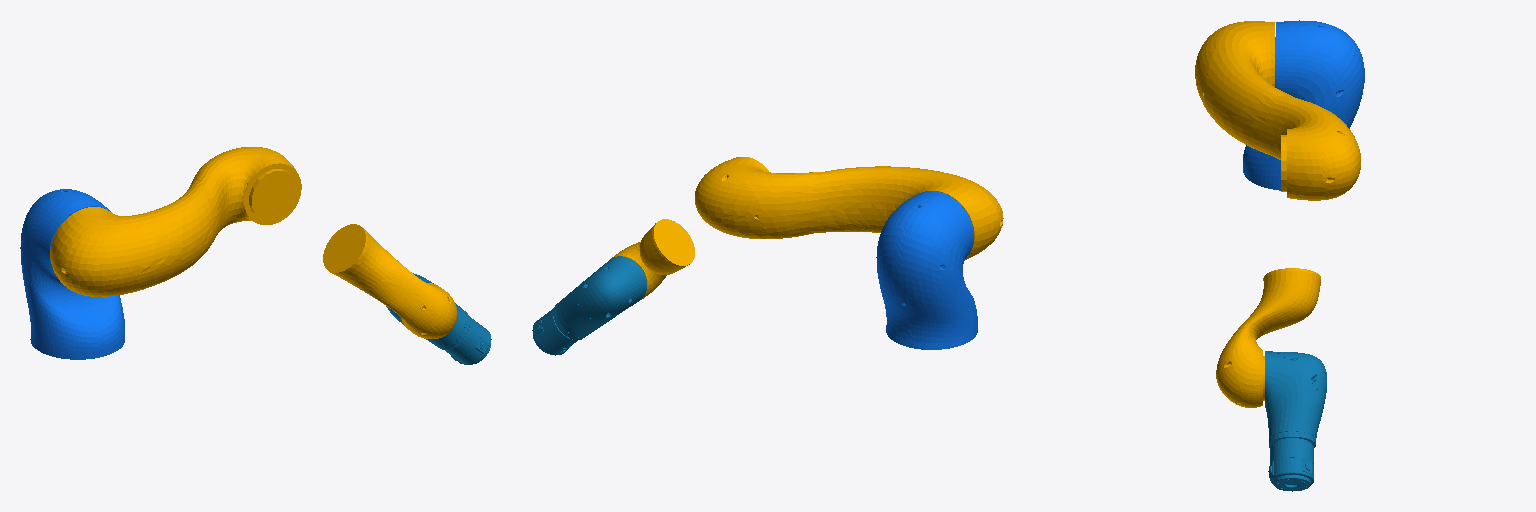
robot.urdf — hsr_co602a:
<robot
  name="hsr_co602a">

<!--
  <link name="world"/>

  <joint name="fixed" type="fixed">
    <parent link="world"/>
    <child link="robot_base_link"/>
	<origin
      xyz="0 0 1"
      rpy="0 0 0" />
  </joint> 
-->
  <link
    name="robot_base_link">
    <inertial>
      <origin
        xyz="-0.0024614 3.992E-07 0.076752"
        rpy="0 0 0" />
      <mass
        value="4.8818" />
      <inertia
        ixx="0"
        ixy="0"
        ixz="0"
        iyy="0"
        iyz="0"
        izz="0" />
    </inertial>
    <visual>
      <origin
        xyz="0 0 0"
        rpy="0 0 0" />
      <geometry>
        <mesh
          filename="package://hsr_description/meshes/co602a/base_link.STL" />
      </geometry>
      <material
        name="">
        <color
          rgba="0.1137 0.5098 0.97 1" />
      </material>
    </visual>
    <collision>
      <origin
        xyz="0 0 0"
        rpy="0 0 0" />
      <geometry>
        <mesh
          filename="package://hsr_description/meshes/co602a/base_link.STL" />
      </geometry>
    </collision>
  </link>
  <link
    name="link1">
    <inertial>
      <origin
        xyz="-3.4523E-06 -0.02843 0.064536"
        rpy="0 0 0" />
      <mass
        value="4.9839" />
      <inertia
        ixx="0"
        ixy="0"
        ixz="0"
        iyy="0"
        iyz="0"
        izz="0" />
    </inertial>
    <visual>
      <origin
        xyz="0 0 0"
        rpy="0 0 0" />
      <geometry>
        <mesh
          filename="package://hsr_description/meshes/co602a/link1.STL" />
      </geometry>
      <material
        name="">
        <color
          rgba="0.1137 0.5098 0.97 1" />
      </material>
    </visual>
    <collision>
      <origin
        xyz="0 0 0"
        rpy="0 0 0" />
      <geometry>
        <mesh
          filename="package://hsr_description/meshes/co602a/link1.STL" />
      </geometry>
    </collision>
  </link>
  <joint
    name="joint_1"
    type="revolute">
    <origin
      xyz="0 0 0.352"
      rpy="3.1416 0 -3.4694E-18" />
    <parent
      link="robot_base_link" />
    <child
      link="link1" />
    <axis
      xyz="0 0 -1" />
    <limit
      lower="-3.490658503988"
      upper="3.490658503988"
      effort="28"
      velocity="3.2" />
    <safety_controller
      soft_upper_limit="3.481931857728"
      soft_lower_limit="-3.481931857728"
      k_position="100"
      k_velocity="10" />
  </joint>
  <link
    name="link2">
    <inertial>
      <origin
        xyz="4.7574E-06 -0.18488 -0.037843"
        rpy="0 0 0" />
      <mass
        value="6.6939" />
      <inertia
        ixx="0"
        ixy="0"
        ixz="0"
        iyy="0"
        iyz="0"
        izz="0" />
    </inertial>
    <visual>
      <origin
        xyz="0 0 0"
        rpy="0 0 0" />
      <geometry>
        <mesh
          filename="package://hsr_description/meshes/co602a/link2.STL" />
      </geometry>
      <material
        name="">
        <color
          rgba="0.97 0.7 0 1" />
      </material>
    </visual>
    <collision>
      <origin
        xyz="0 0 0"
        rpy="0 0 0" />
      <geometry>
        <mesh
          filename="package://hsr_description/meshes/co602a/link2.STL" />
      </geometry>
    </collision>
  </link>
  <joint
    name="joint_2"
    type="revolute">
    <origin
      xyz="0 0 0"
      rpy="1.5708 -1.5708 0" />
    <parent
      link="link1" />
    <child
      link="link2" />
    <axis
      xyz="0 0 1" />
    <limit
      lower="-2.268928027592"
      upper="1"
      effort="28"
      velocity="3.2" />
    <safety_controller
      soft_upper_limit="1"
      soft_lower_limit="-2.260201381332"
      k_position="100"
      k_velocity="10" />
  </joint>
  <link
    name="link3">
    <inertial>
      <origin
        xyz="-4.098E-05 -0.085254 -0.035956"
        rpy="0 0 0" />
      <mass
        value="2.3223" />
      <inertia
        ixx="0"
        ixy="0"
        ixz="0"
        iyy="0"
        iyz="0"
        izz="0" />
    </inertial>
    <visual>
      <origin
        xyz="0 0 0"
        rpy="0 0 0" />
      <geometry>
        <mesh
          filename="package://hsr_description/meshes/co602a/link3.STL" />
      </geometry>
      <material
        name="">
        <color
          rgba="0.1137 0.5098 0.97 1" />
      </material>
    </visual>
    <collision>
      <origin
        xyz="0 0 0"
        rpy="0 0 0" />
      <geometry>
        <mesh
          filename="package://hsr_description/meshes/co602a/link3.STL" />
      </geometry>
    </collision>
  </link>
  <joint
    name="joint_3"
    type="revolute">
    <origin
      xyz="0 -0.4 0"
      rpy="6.3741E-17 1.5386E-16 -1.5708" />
    <parent
      link="link2" />
    <child
      link="link3" />
    <axis
      xyz="0 0 1" />
    <limit
      lower="1"
      upper="3.665191429188"
      effort="28"
      velocity="3.2" />
    <safety_controller
      soft_upper_limit="3.656464782928"
      soft_lower_limit="0.008726646259"
      k_position="100"
      k_velocity="10" />
  </joint>
  <link
    name="link4">
    <inertial>
      <origin
        xyz="0.049627 2.6934E-06 0.3246"
        rpy="0 0 0" />
      <mass
        value="1.3111" />
      <inertia
        ixx="0"
        ixy="0"
        ixz="0"
        iyy="0"
        iyz="0"
        izz="0" />
    </inertial>
    <visual>
      <origin
        xyz="0 0 0"
        rpy="0 0 0" />
      <geometry>
        <mesh
          filename="package://hsr_description/meshes/co602a/link4.STL" />
      </geometry>
      <material
        name="">
        <color
          rgba="0.97 0.7 0 1" />
      </material>
    </visual>
    <collision>
      <origin
        xyz="0 0 0"
        rpy="0 0 0" />
      <geometry>
        <mesh
          filename="package://hsr_description/meshes/co602a/link4.STL" />
      </geometry>
    </collision>
  </link>
  <joint
    name="joint_4"
    type="revolute">
    <origin
      xyz="0 0 0"
      rpy="1.5708 1.5708 0" />
    <parent
      link="link3" />
    <child
      link="link4" />
    <axis
      xyz="0 0 1" />
    <limit
      lower="-3.0"
      upper="3.0"
      effort="28"
      velocity="3.2" />
    <safety_controller
      soft_upper_limit="3.0"
      soft_lower_limit="-3.0"
      k_position="100"
      k_velocity="10" />
  </joint>
  <link
    name="link5">
    <inertial>
      <origin
        xyz="1.2952E-06 -0.043824 0.0021728"
        rpy="0 0 0" />
      <mass
        value="1.1683" />
      <inertia
        ixx="0"
        ixy="0"
        ixz="0"
        iyy="0"
        iyz="0"
        izz="0" />
    </inertial>
    <visual>
      <origin
        xyz="0 0 0"
        rpy="0 0 0" />
      <geometry>
        <mesh
          filename="package://hsr_description/meshes/co602a/link5.STL" />
      </geometry>
      <material
        name="">
        <color
          rgba="0.113 0.5098 0.7 1" />
      </material>
    </visual>
    <collision>
      <origin
        xyz="0 0 0"
        rpy="0 0 0" />
      <geometry>
        <mesh
          filename="package://hsr_description/meshes/co602a/link5.STL" />
      </geometry>
    </collision>
  </link>
  <joint
    name="joint_5"
    type="revolute">
    <origin
      xyz="0 0 0.39901"
      rpy="-1.5708 1.8044E-17 1.5708" />
    <parent
      link="link4" />
    <child
      link="link5" />
    <axis
      xyz="0 0 1" />
    <limit
      lower="-2.268928027592"
      upper="2.268928027592"
      effort="28"
      velocity="3.2" />
    <safety_controller
      soft_upper_limit="2.260201381332"
      soft_lower_limit="-2.260201381332"
      k_position="100"
      k_velocity="10" />
  </joint>
  <link
    name="link6">
    <inertial>
      <origin
        xyz="-3.5784E-05 3.8806E-05 -0.025197"
        rpy="0 0 0" />
      <mass
        value="0.20458" />
      <inertia
        ixx="0"
        ixy="0"
        ixz="0"
        iyy="0"
        iyz="0"
        izz="0" />
    </inertial>
    <visual>
      <origin
        xyz="0 0 0"
        rpy="0 0 0" />
      <geometry>
        <mesh
          filename="package://hsr_description/meshes/co602a/link6.STL" />
      </geometry>
      <material
        name="">
        <color
          rgba="0.113 0.5098 0.7 1" />
      </material>
    </visual>
    <collision>
      <origin
        xyz="0 0 0"
        rpy="0 0 0" />
      <geometry>
        <mesh
          filename="package://hsr_description/meshes/co602a/link6.STL" />
      </geometry>
    </collision>
  </link>
  <joint
    name="joint_6"
    type="revolute">
    <origin
      xyz="0 -0.19849 0"
      rpy="-1.5708 1.0064E-16 -3.1416" />
    <parent
      link="link5" />
    <child
      link="link6" />
    <axis
      xyz="0 0 1" />
    <limit
      lower="-5.1"
      upper="5.1"
      effort="28"
      velocity="3.2" />
    <safety_controller
      soft_upper_limit="5.1"
      soft_lower_limit="-5.1"
      k_position="100"
      k_velocity="10" />
  </joint>

<gazebo>
    <plugin name="gazebo_ros_control" filename="libgazebo_ros_control.so">
      <robotNamespace>/</robotNamespace>
      <robotSimType>gazebo_ros_control/DefaultRobotHWSim</robotSimType>
    </plugin>
  </gazebo>

  <transmission name="tran1">
    <type>transmission_interface/SimpleTransmission</type>
    <joint name="joint_1">
      <hardwareInterface>PositionJointInterface</hardwareInterface>
    </joint>
    <actuator name="motor1">
      <hardwareInterface>PositionJointInterface</hardwareInterface>
      <mechanicalReduction>1</mechanicalReduction>
    </actuator>
  </transmission>

  <transmission name="tran2">
    <type>transmission_interface/SimpleTransmission</type>
    <joint name="joint_2">
      <hardwareInterface>PositionJointInterface</hardwareInterface>
    </joint>
    <actuator name="motor2">
      <hardwareInterface>PositionJointInterface</hardwareInterface>
      <mechanicalReduction>1</mechanicalReduction>
    </actuator>
  </transmission>

  <transmission name="tran3">
    <type>transmission_interface/SimpleTransmission</type>
    <joint name="joint_3">
      <hardwareInterface>PositionJointInterface</hardwareInterface>
    </joint>
    <actuator name="motor3">
      <hardwareInterface>PositionJointInterface</hardwareInterface>
      <mechanicalReduction>1</mechanicalReduction>
    </actuator>
  </transmission>

  <transmission name="tran4">
    <type>transmission_interface/SimpleTransmission</type>
    <joint name="joint_4">
      <hardwareInterface>PositionJointInterface</hardwareInterface>
    </joint>
    <actuator name="motor4">
      <hardwareInterface>PositionJointInterface</hardwareInterface>
      <mechanicalReduction>1</mechanicalReduction>
    </actuator>
  </transmission>

  <transmission name="tran5">
    <type>transmission_interface/SimpleTransmission</type>
    <joint name="joint_5">
      <hardwareInterface>PositionJointInterface</hardwareInterface>
    </joint>
    <actuator name="motor5">
      <hardwareInterface>PositionJointInterface</hardwareInterface>
      <mechanicalReduction>1</mechanicalReduction>
    </actuator>
  </transmission>

  <transmission name="tran6">
    <type>transmission_interface/SimpleTransmission</type>
    <joint name="joint_6">
      <hardwareInterface>PositionJointInterface</hardwareInterface>
    </joint>
    <actuator name="motor6">
      <hardwareInterface>PositionJointInterface</hardwareInterface>
      <mechanicalReduction>1</mechanicalReduction>
    </actuator>
  </transmission>

</robot>

--- Facts derived from the render (not from the file) ---
Views: 3 orthographic renders of the robot side by side, from view 1: azimuth 30°, elevation 25°; view 2: azimuth 150°, elevation 25°; view 3: azimuth 270°, elevation 25°.
Model hsr_co602a with 7 links and 6 joints (6 revolute), rooted at robot_base_link, posed all joints at 0 but 1 set to mid-range because 0 is outside their limits (joint_3 = 2.33).
Links seen in each view (by area): view 1: link2, link1, link4, link6, link5; view 2: link2, link1, link5, link4, link6; view 3: link2, link1, link4, link5, link6.
Link boxes in pixels (left/top/right/bottom): link2: left=50, top=147, right=301, bottom=296; link1: left=20, top=189, right=124, bottom=359; link4: left=323, top=224, right=456, bottom=338; link6: left=445, top=316, right=491, bottom=364; link5: left=386, top=273, right=469, bottom=349; link2: left=695, top=157, right=1003, bottom=259; link1: left=876, top=191, right=977, bottom=349; link5: left=553, top=256, right=646, bottom=339; link4: left=611, top=219, right=694, bottom=299; link6: left=532, top=308, right=577, bottom=355; link2: left=1195, top=21, right=1360, bottom=200; link1: left=1243, top=20, right=1364, bottom=190; link4: left=1216, top=268, right=1320, bottom=407; link5: left=1265, top=351, right=1326, bottom=447; link6: left=1268, top=440, right=1313, bottom=491.
Size in the robot's own frame: 0.945 by 0.2939 by 0.5138 metres.
5 mesh visuals loaded from 7 distinct referenced files (5 binary STL); not drawn: 2 (reference not matched to a file when rendering).